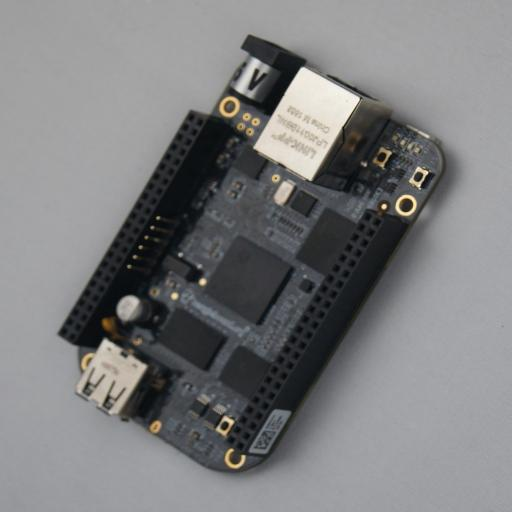Beaglebone Black: (58, 35, 456, 476)
